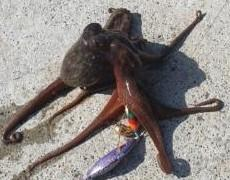Cephalopod: (2, 8, 225, 177)
